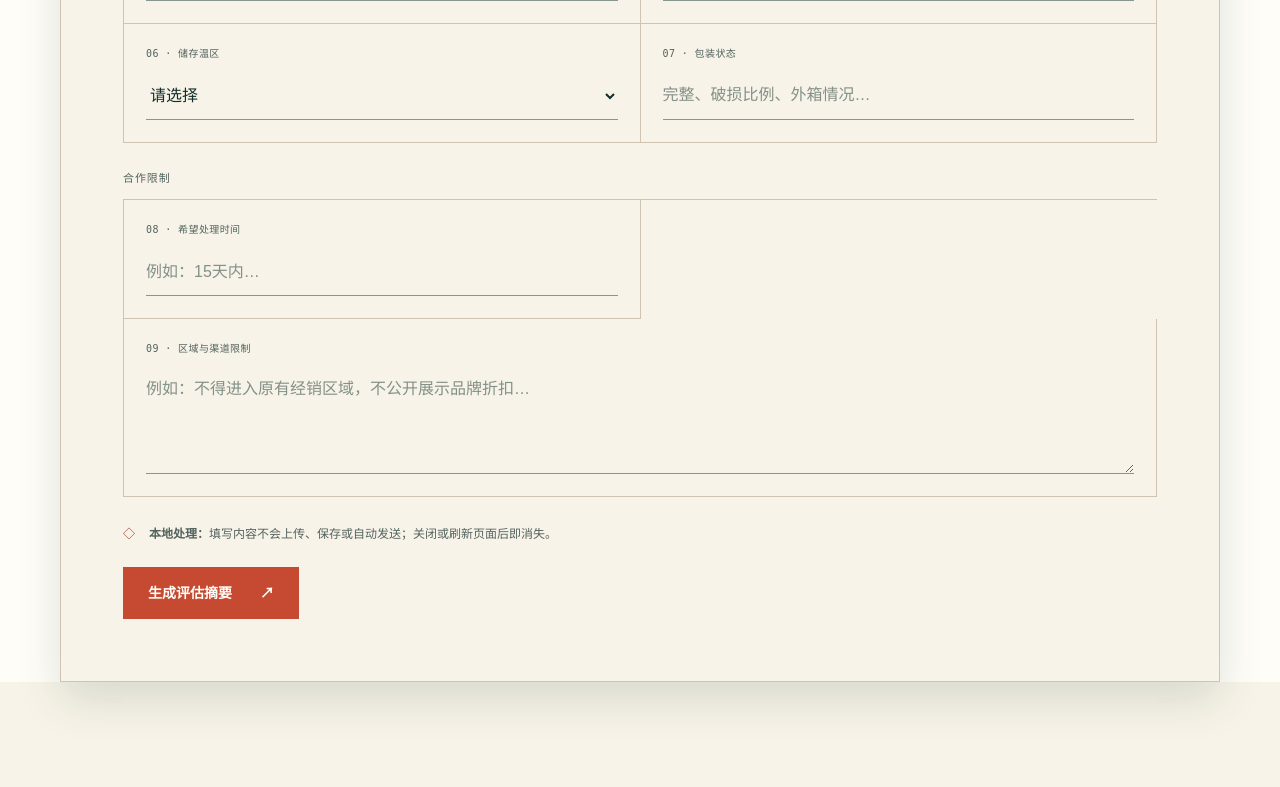
Test case: AssessmentForm › names fields and focuses the first invalid field
(page scrolled)
Step 1. Click the button "生成评估摘要 ↗" → (211, 593), box [123, 567, 299, 619]
(page scrolled)
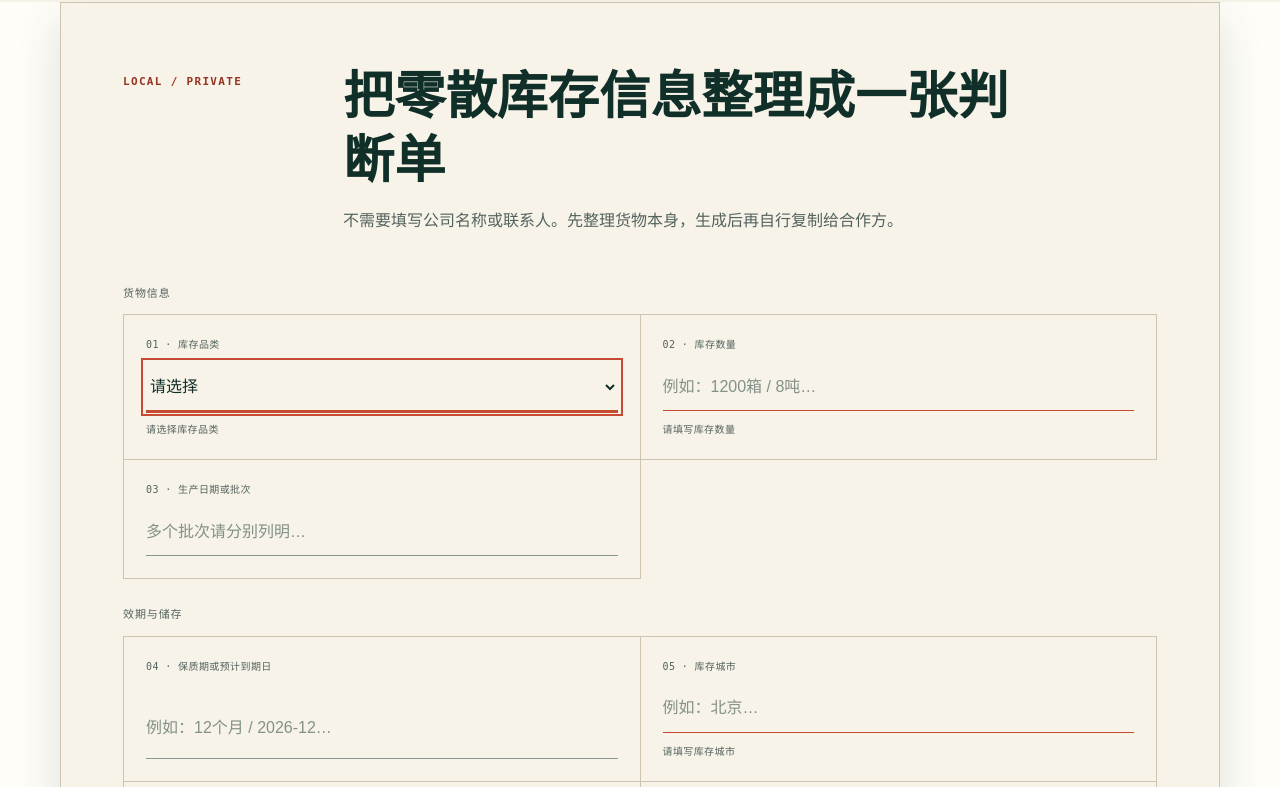
Check: the text "请选择库存品类" is shown, box [146, 424, 219, 435]
